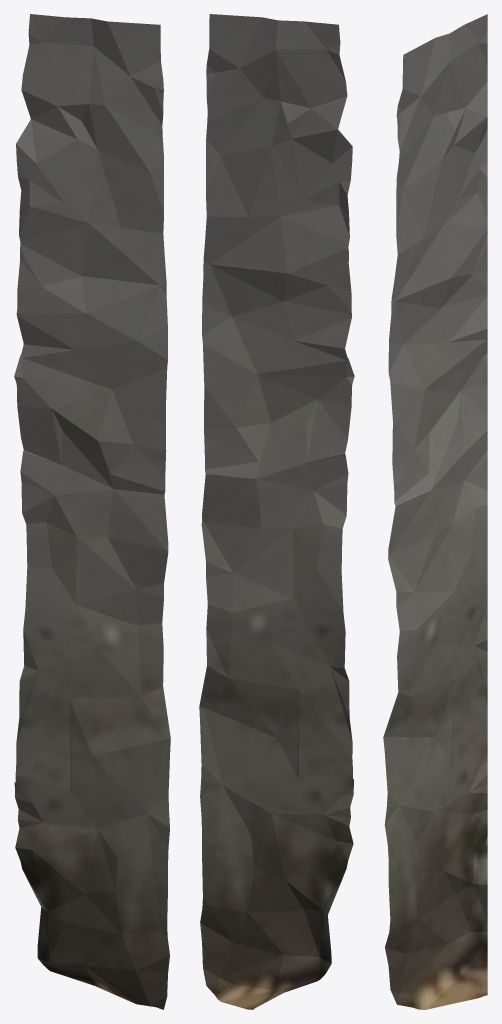
3 renders of one model, left to right at view 1: azimuth 30°, elevation 25°; view 2: azimuth 210°, elevation 25°; view 3: azimuth 270°, elevation 25°, orthographic. The views are drawn at different scales.
Bounding box in the file's own units: 0.079 × 0.7267 × 0.072.
1 material, 1 textured.
